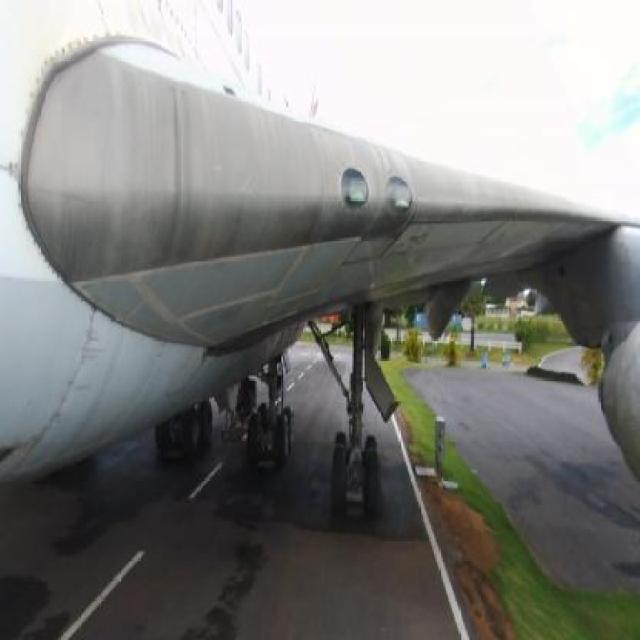Scartch: (399, 218, 450, 259)
